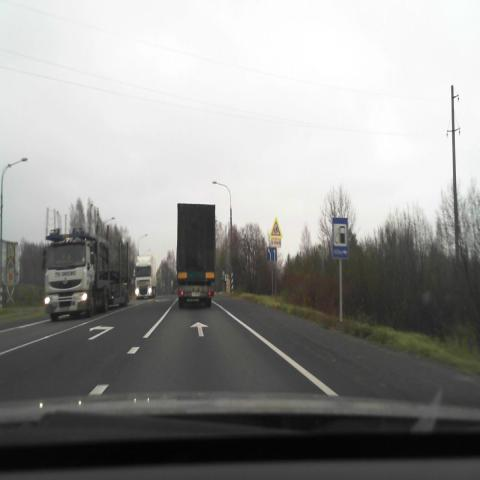1_23: (270, 217, 283, 238)
5_15_2_2: (267, 246, 277, 260)
7_3: (332, 217, 349, 259)
